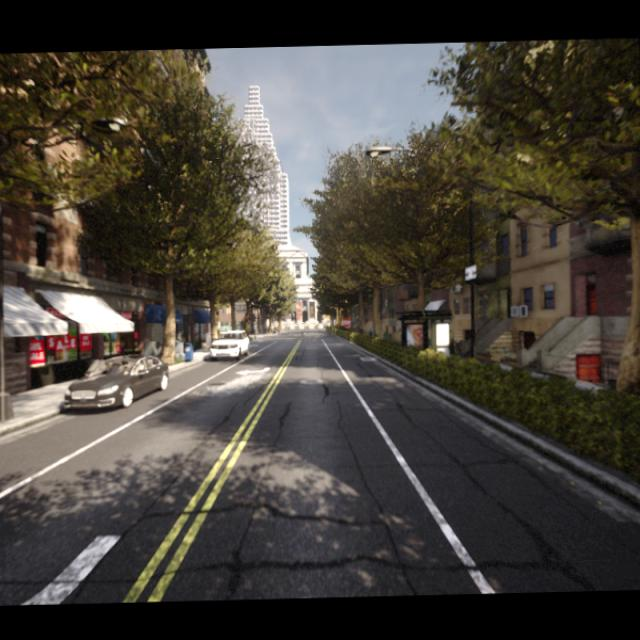stop sign: (338, 313, 355, 331)
